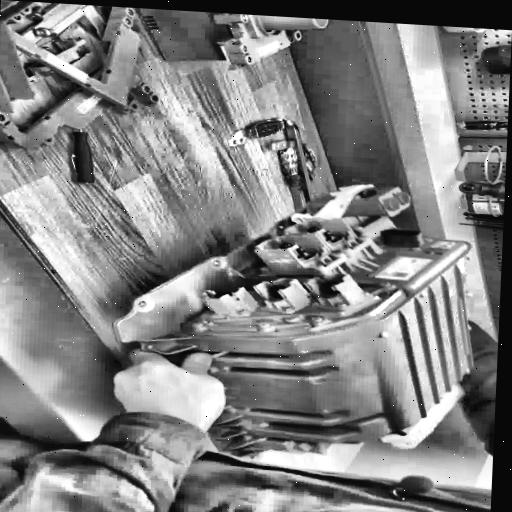bms_unit: (107, 165, 500, 486)
